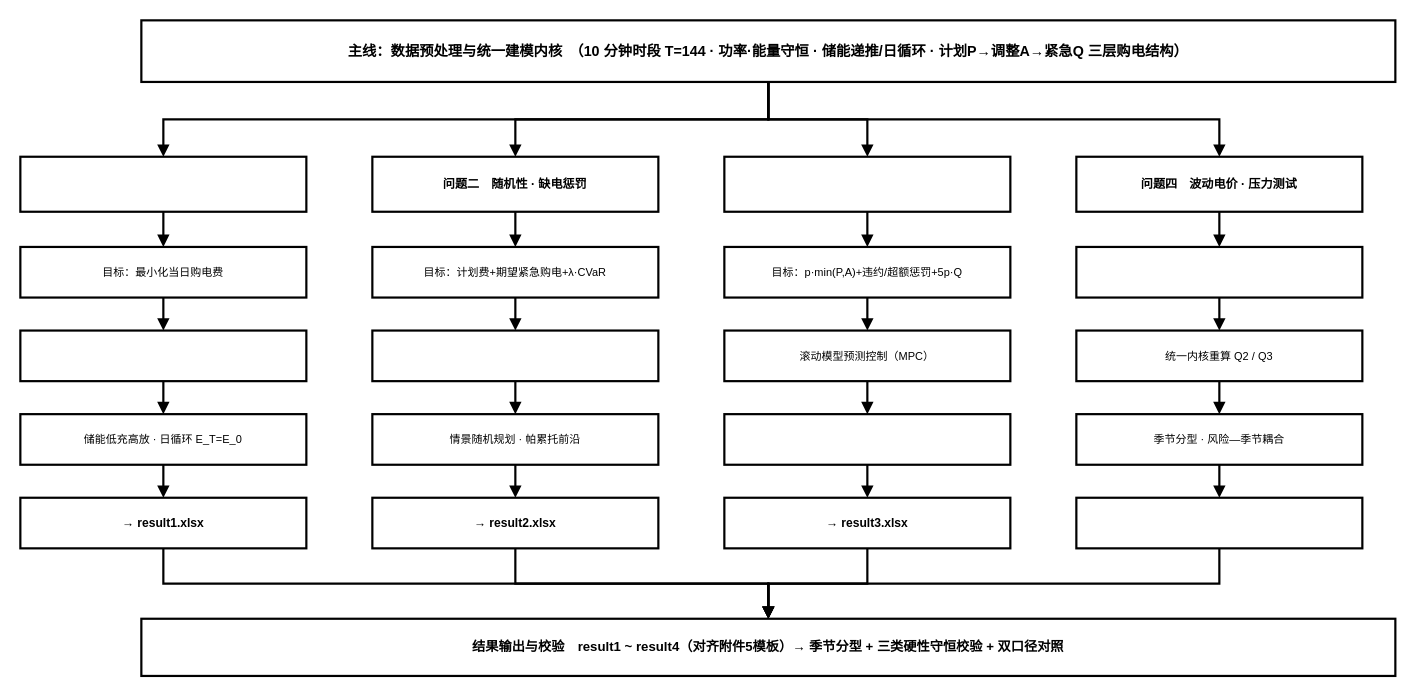
Some shapes in this 1415 by 695 pixel diagram are drawn without their labels. The shapes that lost their labels are listed below. From the top down, each one's centre as x and y in pixels, then its label:
(x=163, y=183): 问题一 确定性 · 完美信息
(x=867, y=183): 问题三 时序 · 预报更新
(x=1219, y=271): 目标：波动电价 p_t^var 替换 p_t
(x=163, y=355): 单日线性规划（LP）
(x=515, y=355): 两阶段随机规划 + CVaR
(x=867, y=439): 0 / 6 / 12 / 18 滚动再计划
(x=1219, y=522): → result4.xlsx
